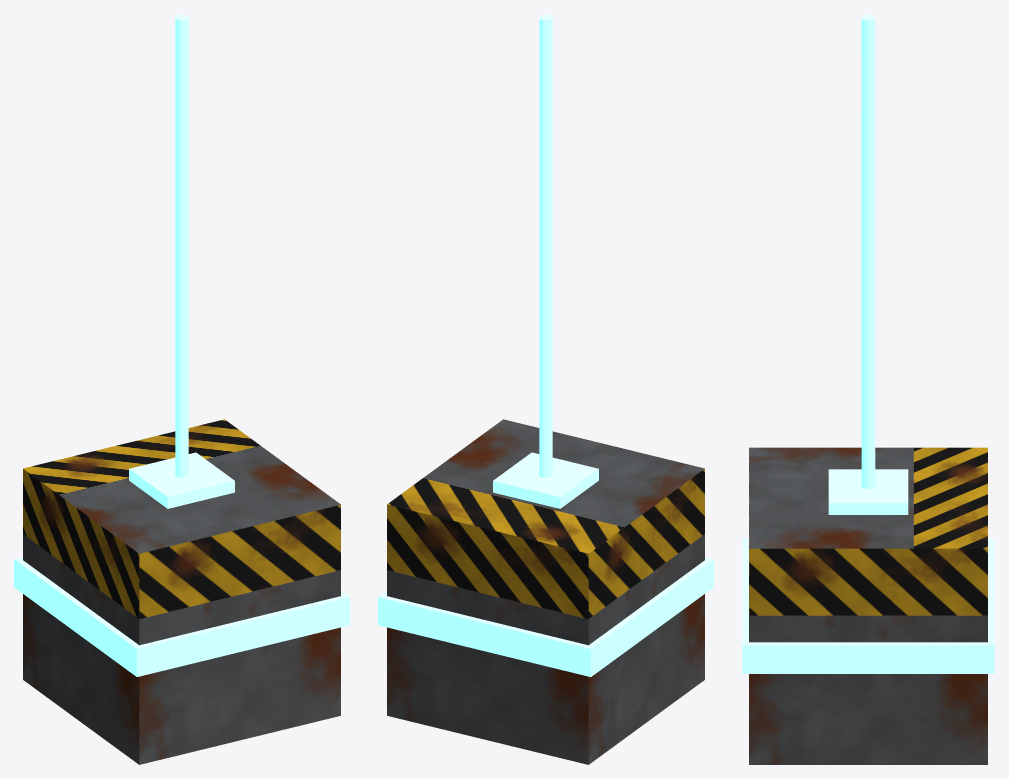
Rendered from loot_armor.glb.
3 views of the same model, side by side, from view 1: azimuth 30°, elevation 25°; view 2: azimuth 150°, elevation 25°; view 3: azimuth 270°, elevation 25° (orthographic). The views are drawn at different scales.
Parts seen in each view (by area): view 1: Loot; view 2: Loot; view 3: Loot.
Part boxes in pixels (x1,y1,x2,y2): Loot: (14,14,349,764); Loot: (378,14,713,764); Loot: (742,14,994,764).
Bounding box in the file's own units: 0.95 × 2.9 × 0.95.
2 materials, 1 textured.
